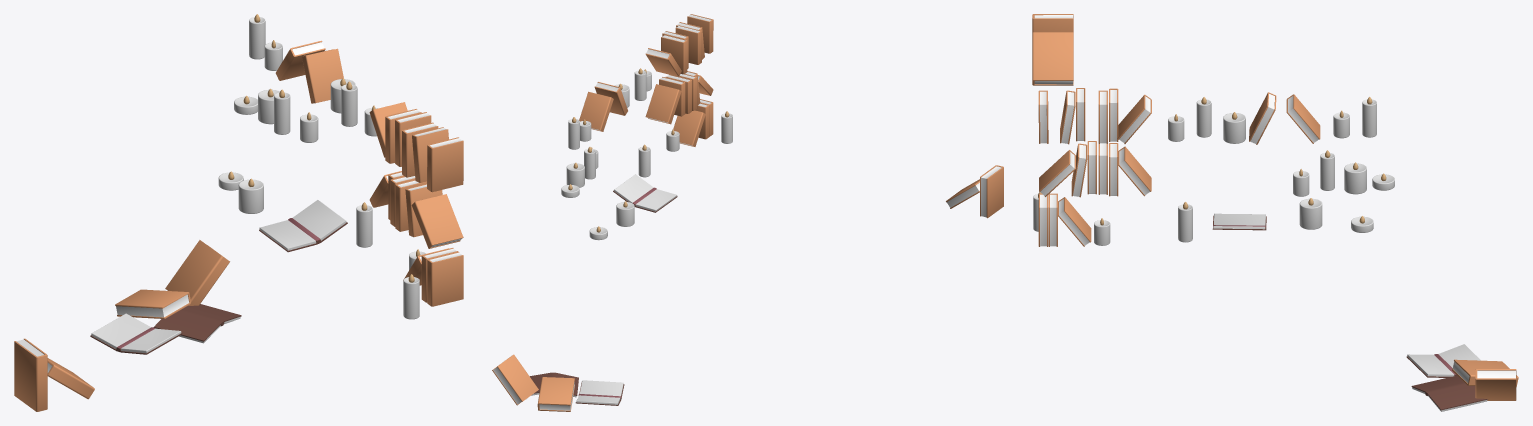
The model's file is BooksCandlesMageStationUpgrade.fbx.
The picture shows the model from 3 angles, left to right: view 1: azimuth 30°, elevation 25°; view 2: azimuth 150°, elevation 25°; view 3: azimuth 270°, elevation 25°; orthographic projection. The views are drawn at different scales.
Parts seen in each view (by area): view 1: BooksClosed, Candles, BooksOpened; view 2: BooksClosed, Candles, BooksOpened; view 3: BooksClosed, Candles, BooksOpened.
Part boxes in pixels (<box>): BooksClosed: <box>14,40,463,411</box>; Candles: <box>218,14,425,319</box>; BooksOpened: <box>90,200,347,354</box>; BooksClosed: <box>492,14,1003,411</box>; Candles: <box>561,68,732,240</box>; BooksOpened: <box>530,174,677,405</box>; BooksClosed: <box>1032,14,1518,400</box>; Candles: <box>1033,97,1394,245</box>; BooksOpened: <box>1212,213,1487,411</box>.
Size of the model in its own units: 347 by 258 by 369.
